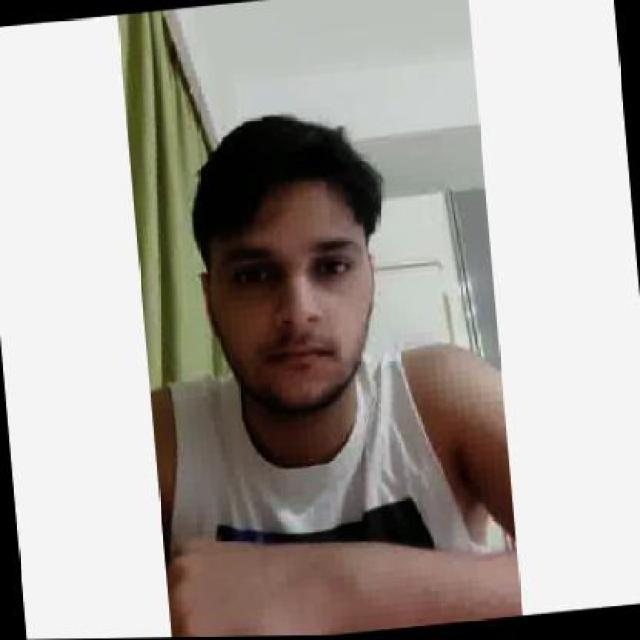attentif: (188, 107, 388, 424)
